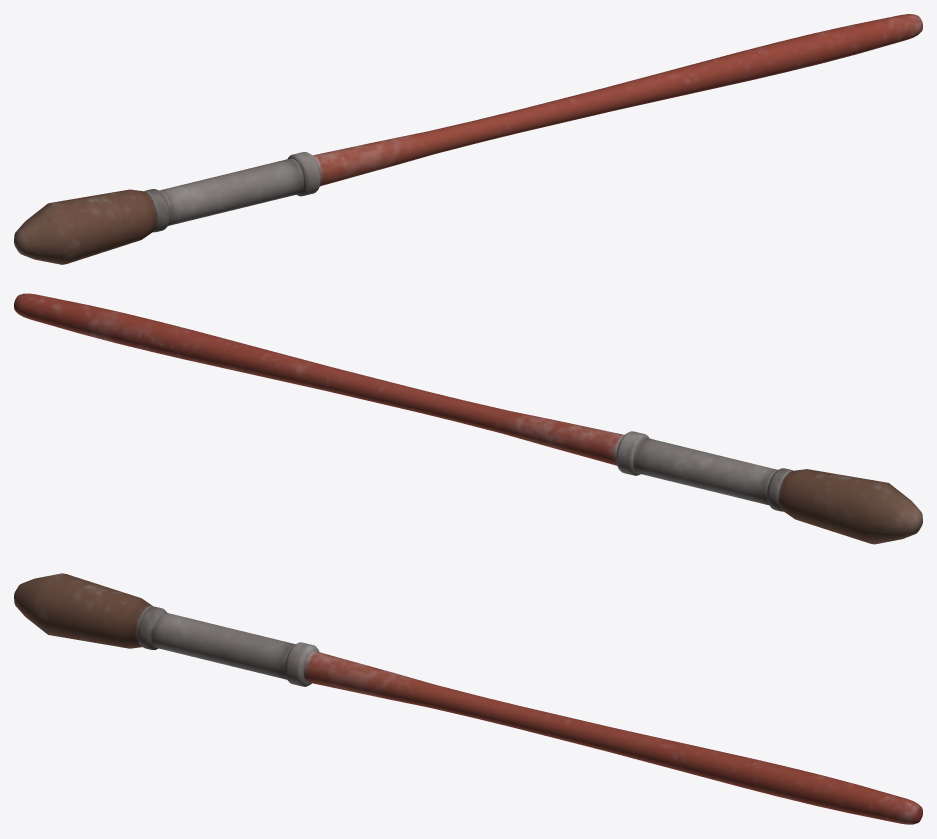
The model's file is SM_PaintBrush_04.fbx.
3 renders of one model, top to bottom at view 1: azimuth 30°, elevation 25°; view 2: azimuth 150°, elevation 25°; view 3: azimuth 330°, elevation 25°, orthographic.
Parts seen in each view (by area): view 1: SM_PaintBrush_04_LOD0; view 2: SM_PaintBrush_04_LOD0; view 3: SM_PaintBrush_04_LOD0.
Boxes of the visible parts, x1,y1,x2,y2 form: SM_PaintBrush_04_LOD0: (14,14,922,264); SM_PaintBrush_04_LOD0: (14,293,922,544); SM_PaintBrush_04_LOD0: (14,573,922,824).
Size of the model in its own units: 44.84 by 2.75 by 2.75.
1 material, 1 textured.
